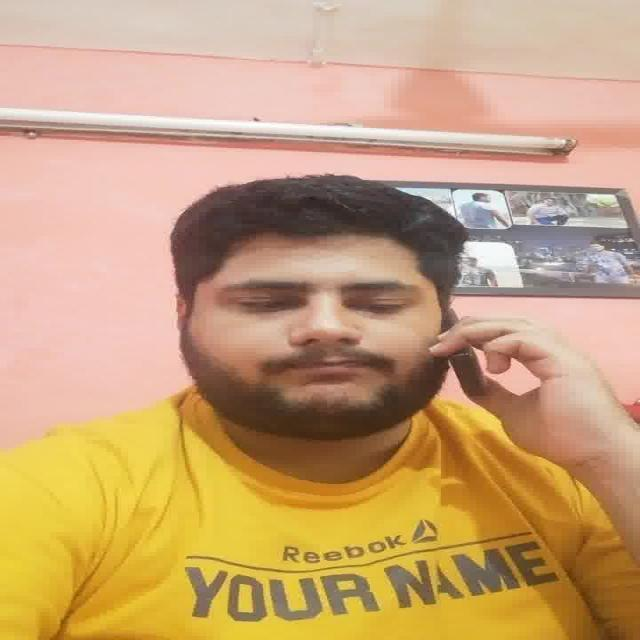Phone: (449, 345, 492, 403)
